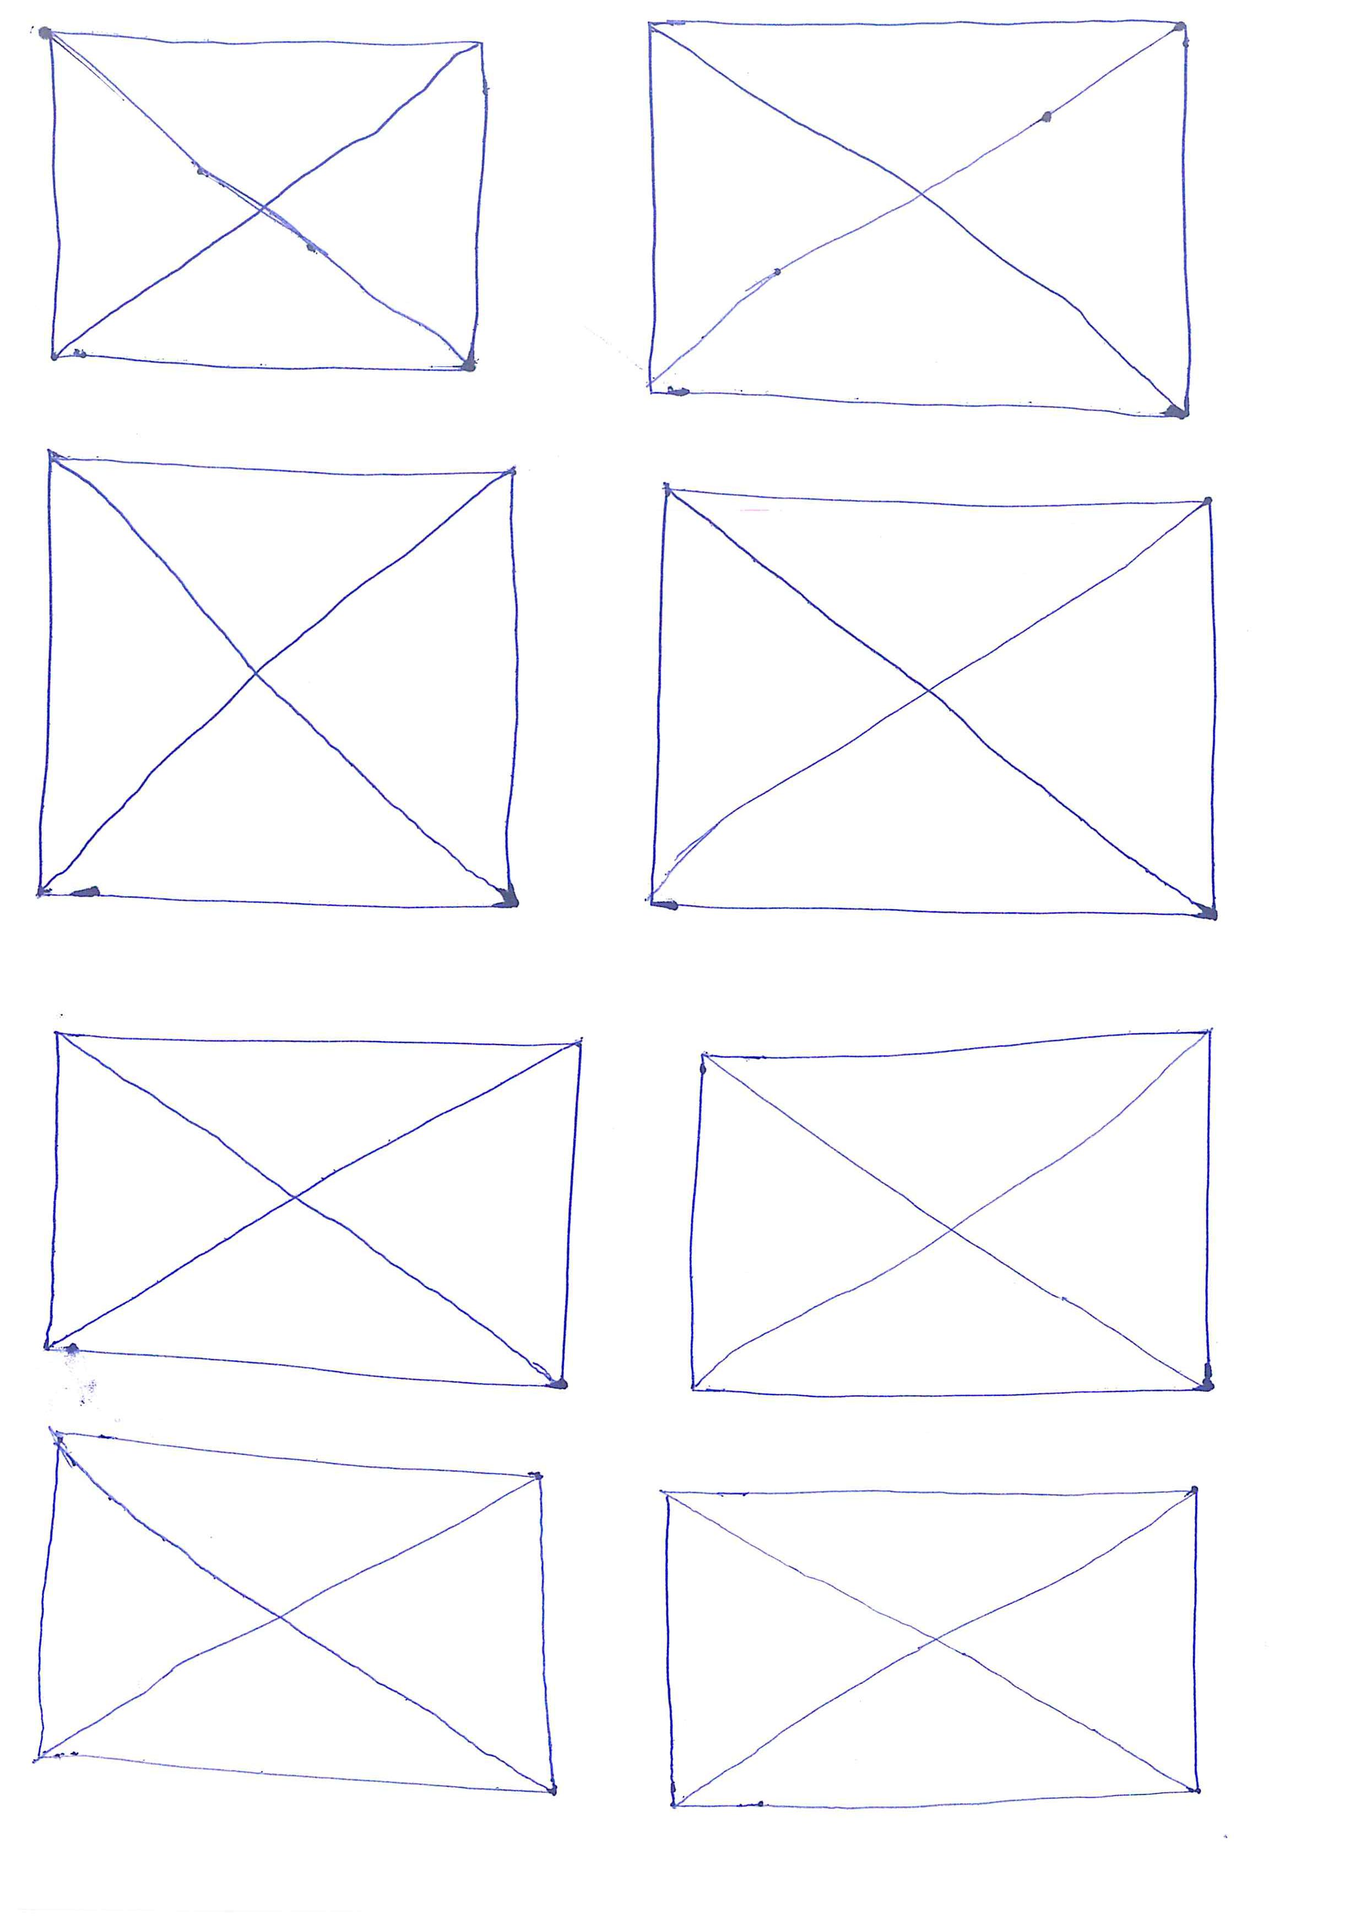Image: (645, 485, 1230, 920), (30, 447, 526, 917), (639, 12, 1197, 420), (677, 1020, 1221, 1403), (41, 1026, 591, 1397), (30, 1428, 571, 1802), (659, 1479, 1206, 1813), (35, 21, 495, 381)
